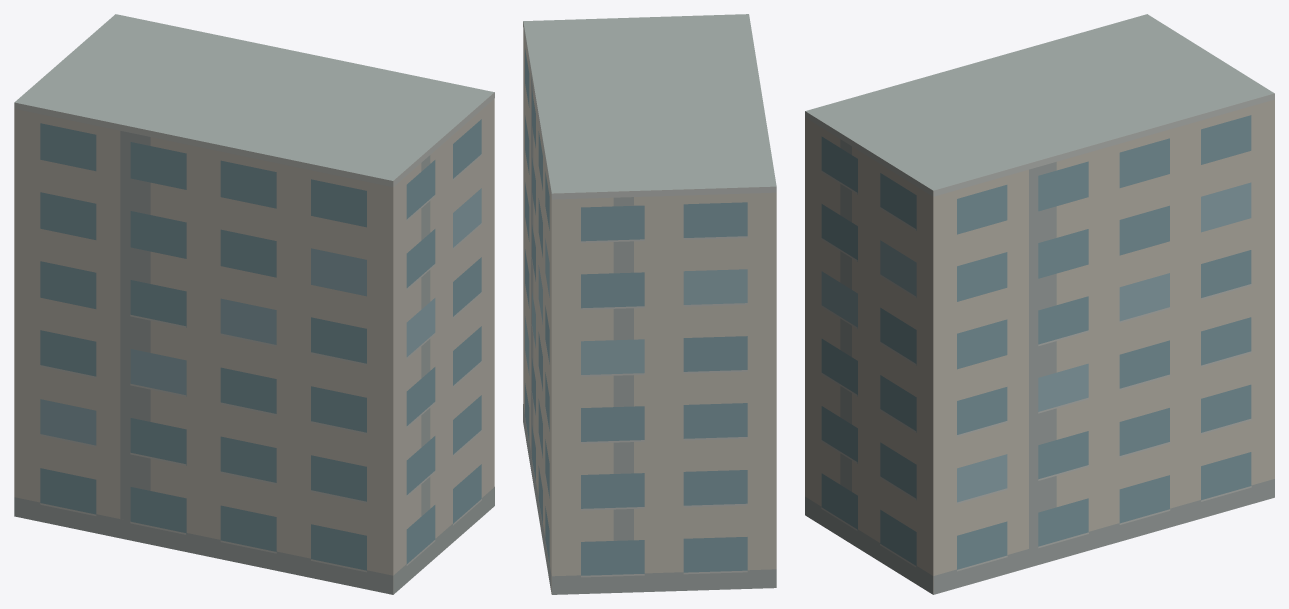
Rendered from survey-upis-32881731.glb.
The picture shows the model from 3 angles, left to right: view 1: azimuth 30°, elevation 25°; view 2: azimuth 150°, elevation 25°; view 3: azimuth 270°, elevation 25°; orthographic projection. The views are drawn at different scales.
Parts seen in each view (by area): view 1: survey-upis-32881731.tmp; view 2: survey-upis-32881731.tmp; view 3: survey-upis-32881731.tmp.
Part boxes in pixels (bbox=[...]): survey-upis-32881731.tmp: bbox=[14, 14, 494, 594]; survey-upis-32881731.tmp: bbox=[523, 14, 776, 594]; survey-upis-32881731.tmp: bbox=[805, 14, 1274, 594].
Size of the model in its own units: 15.11 by 16.1 by 16.97.
